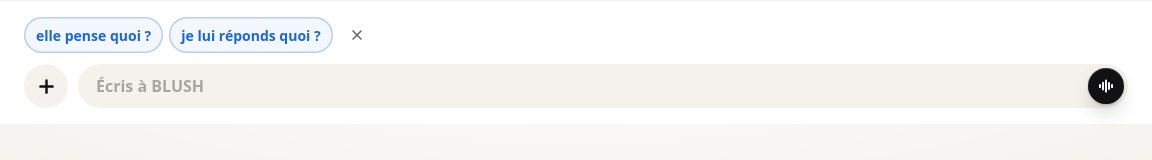
Test: la barre de saisie de l’accueil › « Masquer les idées de questions » les range derrière « Idées de questions », qui les rend
The image size is (1152, 160).
What coordinates should you click on to do the following:
click the button named "Masquer les idées de questions"
I would click on:
 (357, 35)
Its box is left=339, top=17, right=375, bottom=53.
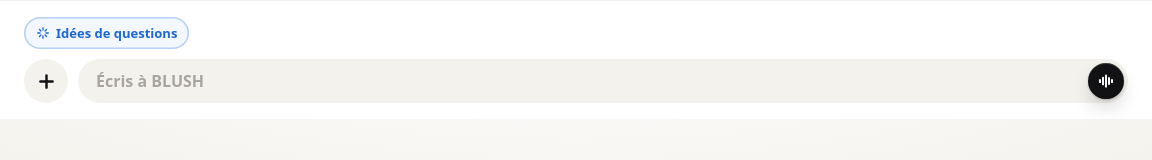
What coordinates should you click on to do the following:
click the button "Idées de questions"
I would click on:
 (107, 33)
Its box is left=24, top=17, right=189, bottom=49.
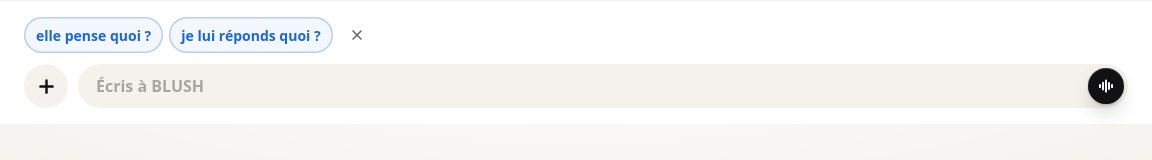
Check: the element named "Questions toutes prêtes" is shown, box left=24, top=17, right=375, bottom=53
